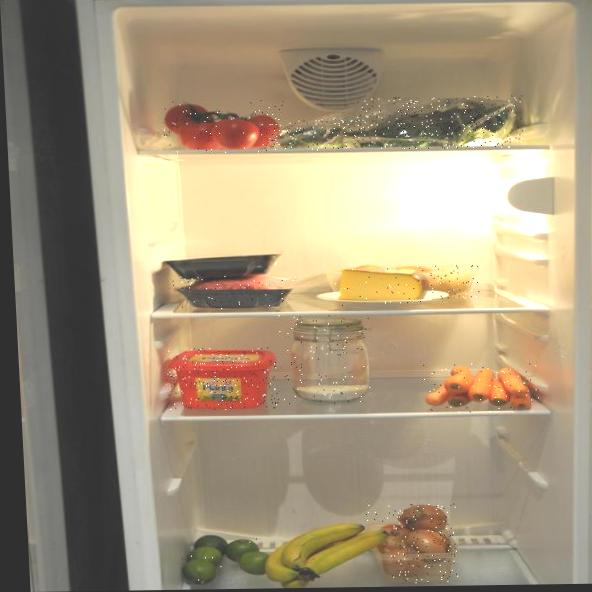banana: (262, 521, 393, 589)
butter: (166, 347, 279, 411)
carrot: (421, 362, 541, 413)
cheese: (332, 265, 432, 306)
flour: (279, 313, 375, 404)
green_beans: (265, 119, 371, 151)
ground_beef: (173, 274, 298, 310)
lime: (180, 533, 279, 586)
onion: (364, 504, 460, 584)
potato: (404, 264, 481, 301)
spinach: (355, 95, 525, 150)
tomato: (159, 100, 286, 154)
